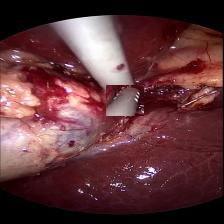Irrigator: (106, 84, 144, 115)
